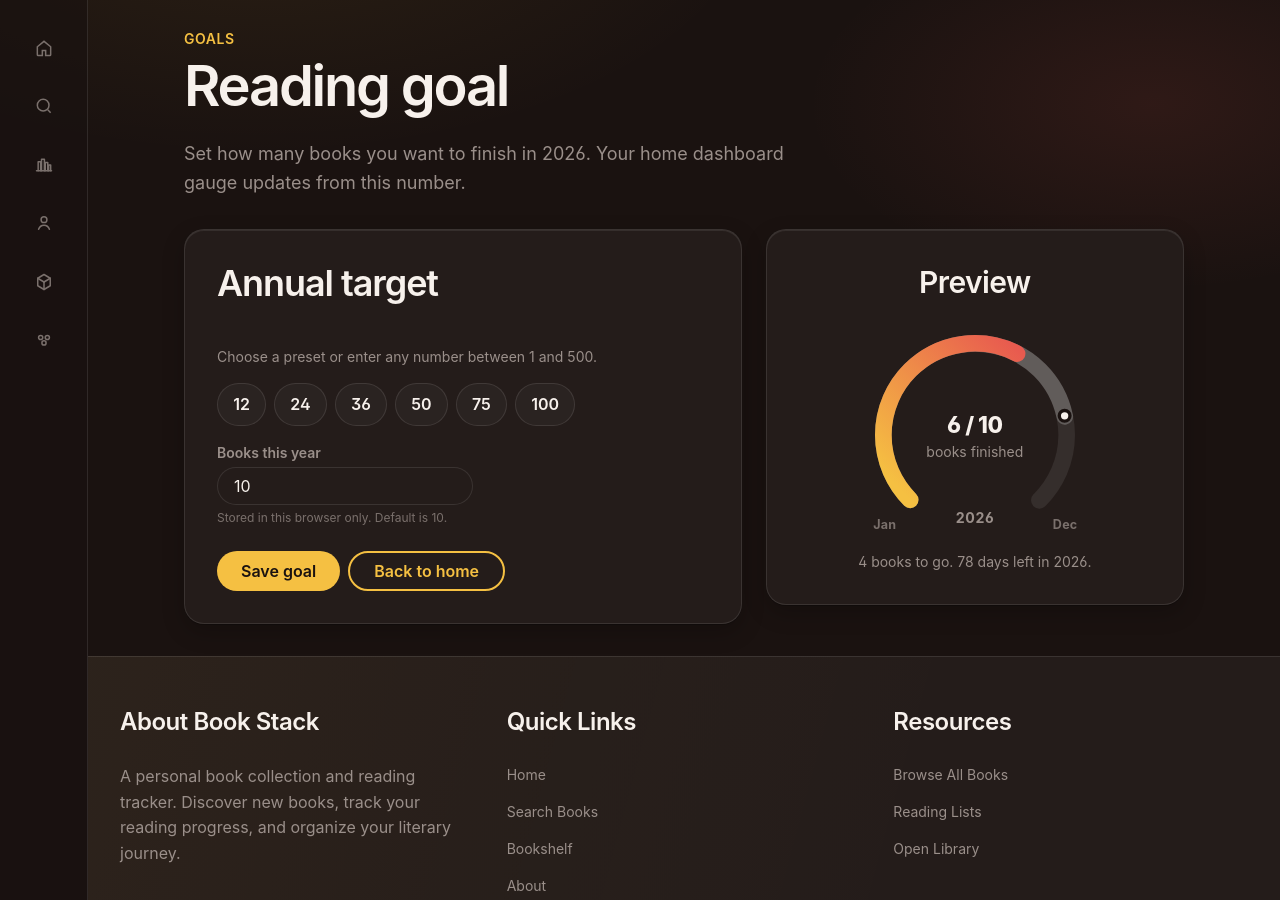
Test case: ReadingGoalPage › disables save when the draft is outside the allowed range
Replace the text in the number field labelled "Books this year" with "999" at (345, 486), box [217,467,473,505]
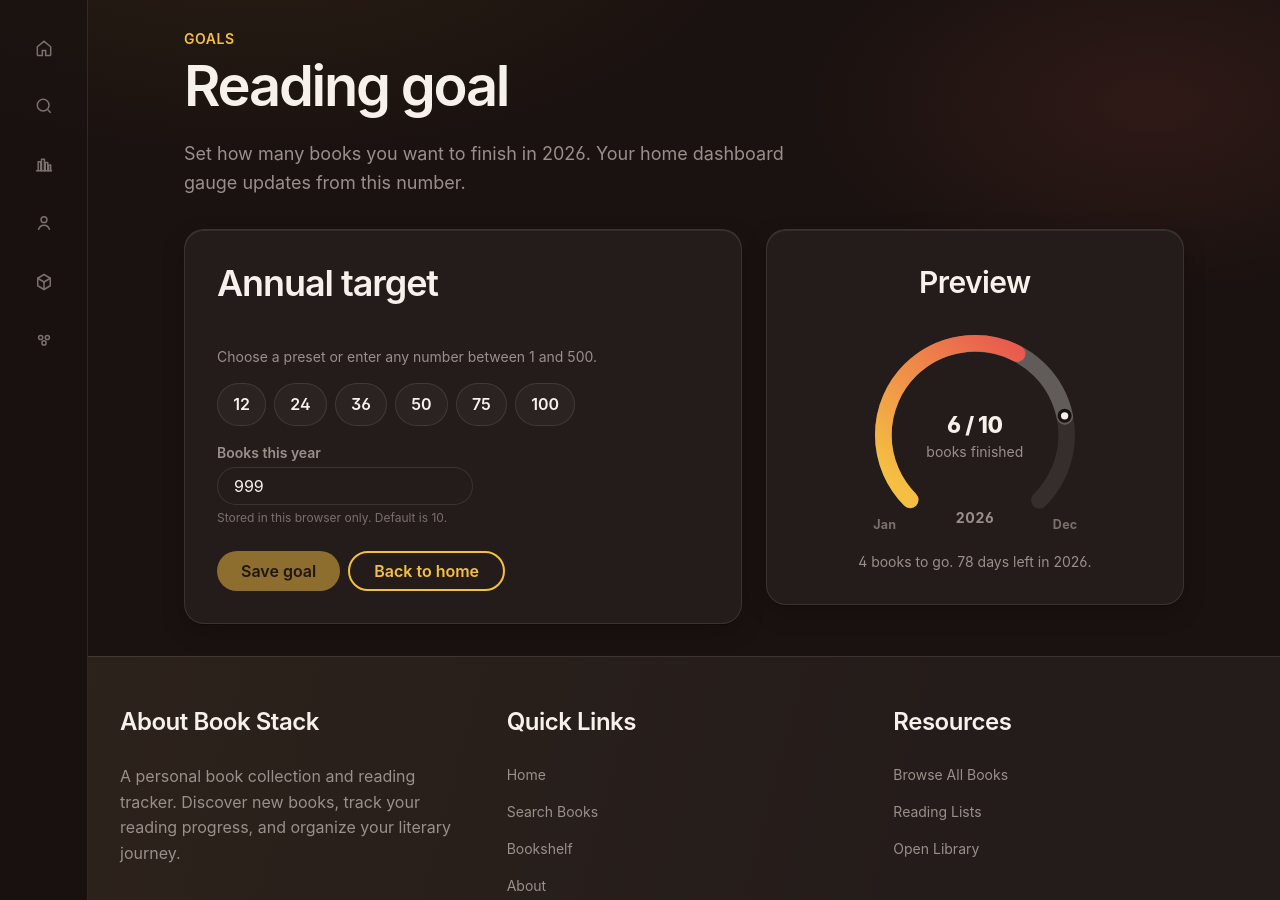
Expected: the button "Save goal" is disabled, [217,551,340,591]
